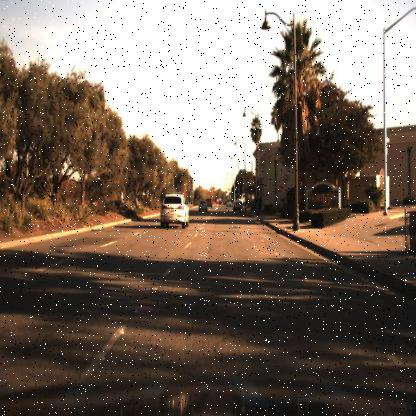car: (154, 185, 190, 236), (193, 196, 211, 218), (229, 194, 243, 217)
truck: (238, 188, 253, 212)
